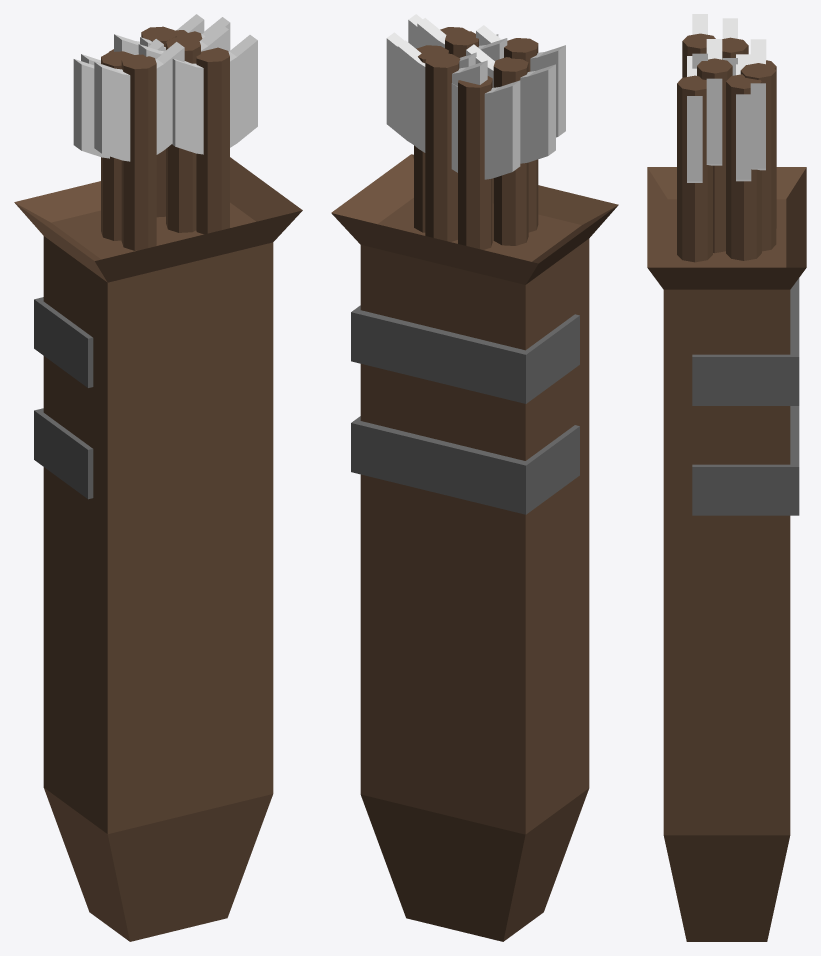
The model's file is Quiver.fbx.
3 renders of one model, left to right at view 1: azimuth 30°, elevation 25°; view 2: azimuth 150°, elevation 25°; view 3: azimuth 270°, elevation 25°, orthographic.
Visible parts, largest first — view 1: Cube, Arrow, Arrow.006, Arrow.002, Arrow.001, Cube.002, Cube.003, Arrow.005; view 2: Cube, Cube.003, Cube.002, Arrow.004, Arrow.005, Arrow.002, Arrow, Arrow.003, Arrow.001; view 3: Cube, Cube.002, Arrow.006, Cube.003, Arrow.003, Arrow.005, Arrow.001, Arrow, Arrow.002.
Boxes of the visible parts, bbox=[...] form: Cube: bbox=[14, 157, 302, 941]; Arrow: bbox=[94, 42, 184, 250]; Arrow.006: bbox=[172, 35, 257, 234]; Arrow.002: bbox=[73, 39, 163, 240]; Arrow.001: bbox=[138, 24, 228, 232]; Cube.002: bbox=[34, 297, 93, 387]; Cube.003: bbox=[34, 408, 93, 499]; Arrow.005: bbox=[114, 14, 204, 217]; Cube: bbox=[331, 154, 618, 941]; Cube.003: bbox=[351, 416, 579, 514]; Cube.002: bbox=[351, 305, 579, 403]; Arrow.004: bbox=[451, 76, 520, 249]; Arrow.005: bbox=[397, 40, 487, 241]; Arrow.002: bbox=[466, 44, 555, 245]; Arrow: bbox=[476, 25, 565, 232]; Arrow.003: bbox=[386, 32, 476, 232]; Arrow.001: bbox=[417, 18, 507, 60]; Cube: bbox=[647, 167, 806, 941]; Cube.002: bbox=[692, 278, 799, 405]; Arrow.006: bbox=[677, 56, 712, 262]; Cube.003: bbox=[692, 406, 799, 515]; Arrow.003: bbox=[726, 54, 761, 260]; Arrow.005: bbox=[740, 43, 776, 251]; Arrow.001: bbox=[697, 39, 732, 253]; Arrow: bbox=[682, 14, 715, 77]; Arrow.002: bbox=[722, 18, 748, 75].
Size of the model in its own units: 16.15 by 65.08 by 10.82.
